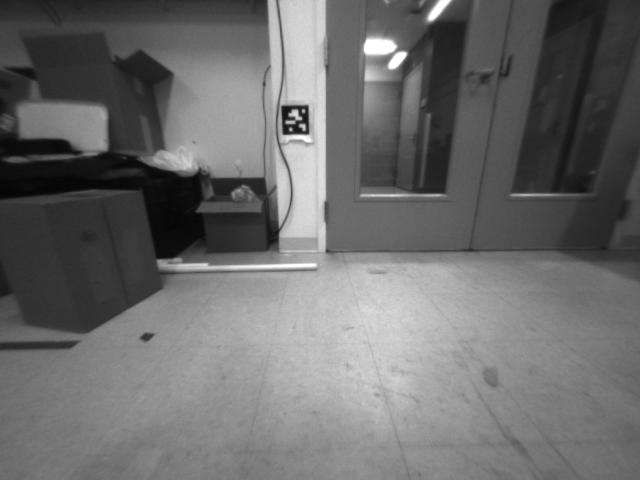door_handle: (462, 64, 496, 85)
